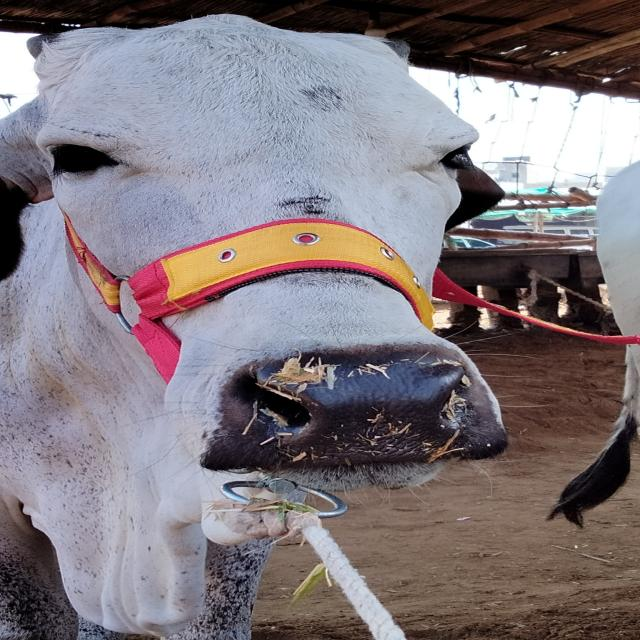muzzles: (192, 337, 514, 483)
